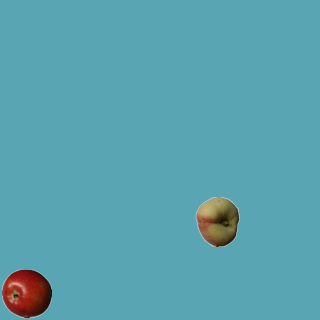Apple Braeburn: (1, 268, 51, 318)
Peach Flat: (192, 196, 242, 246)
